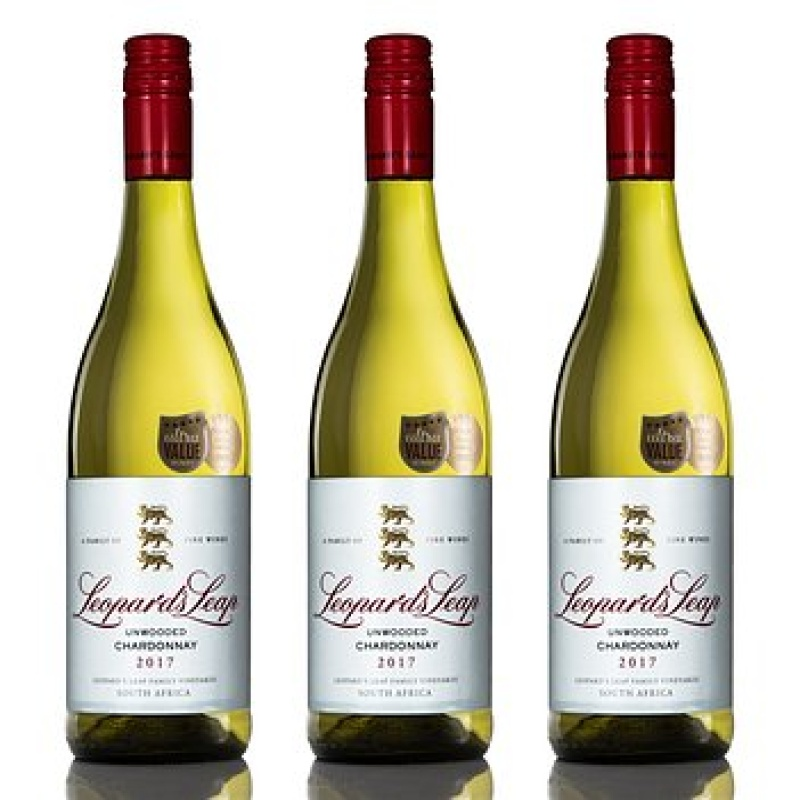wine: (305, 59, 498, 757), (550, 63, 737, 737), (66, 50, 244, 738)
